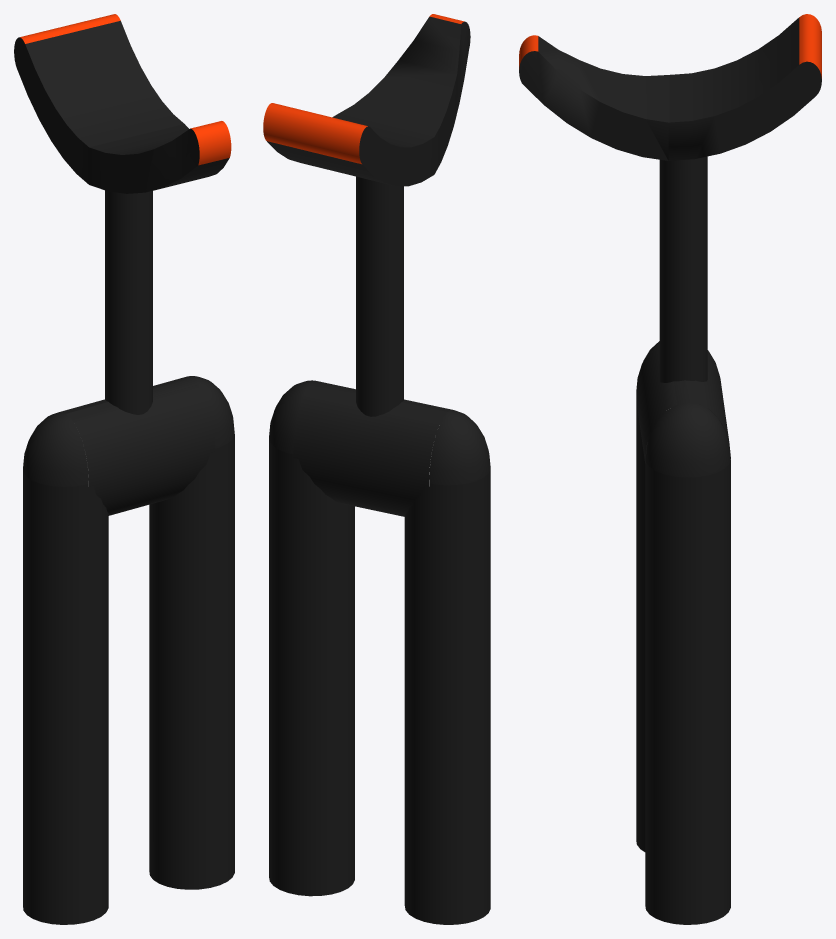
The model's file is bikeseat.dae.
The picture shows the model from 3 angles, left to right: view 1: azimuth 30°, elevation 25°; view 2: azimuth 150°, elevation 25°; view 3: azimuth 270°, elevation 25°; orthographic projection. The views are drawn at different scales.
Parts seen in each view (by area): view 1: group_0 (×5); view 2: group_0 (×4); view 3: group_0 (×4).
Part boxes in pixels (x1=…): group_0 (×5): x1=14, y1=14, x2=234, y2=924; group_0 (×4): x1=263, y1=16, x2=490, y2=924; group_0 (×4): x1=519, y1=14, x2=821, y2=924.
Size of the model in its own units: 23.38 by 29.22 by 89.
